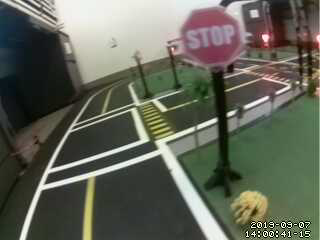Stop_Sign: (170, 6, 248, 70)
